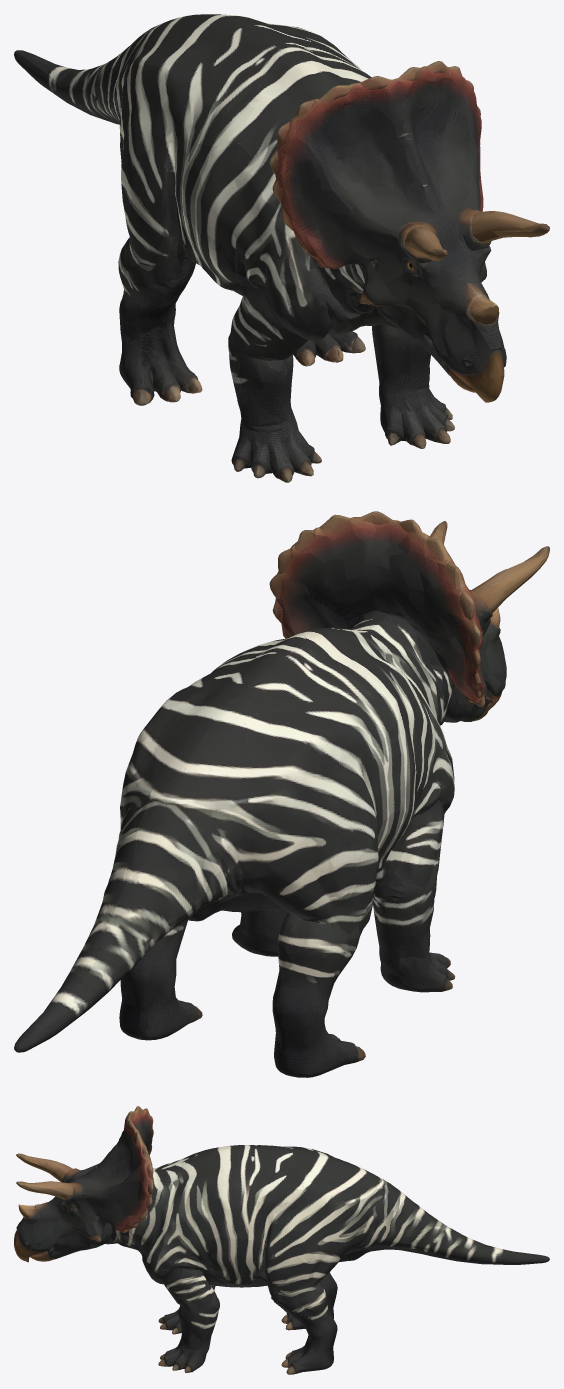
Rendered from zebraceratops_i2m_v1.glb.
3 renders of one model, top to bottom at view 1: azimuth 30°, elevation 25°; view 2: azimuth 150°, elevation 25°; view 3: azimuth 270°, elevation 25°, orthographic. The views are drawn at different scales.
Parts seen in each view (by area): view 1: Mesh_0; view 2: Mesh_0; view 3: Mesh_0.
Boxes of the visible parts, x1=… form: Mesh_0: x1=14, y1=14, x2=549, y2=482; Mesh_0: x1=14, y1=511, x2=549, y2=1077; Mesh_0: x1=14, y1=1106, x2=549, y2=1374.
Size of the model in its own units: 0.5245 by 0.8925 by 1.9.
Materials: 1 (1 with a texture image).
